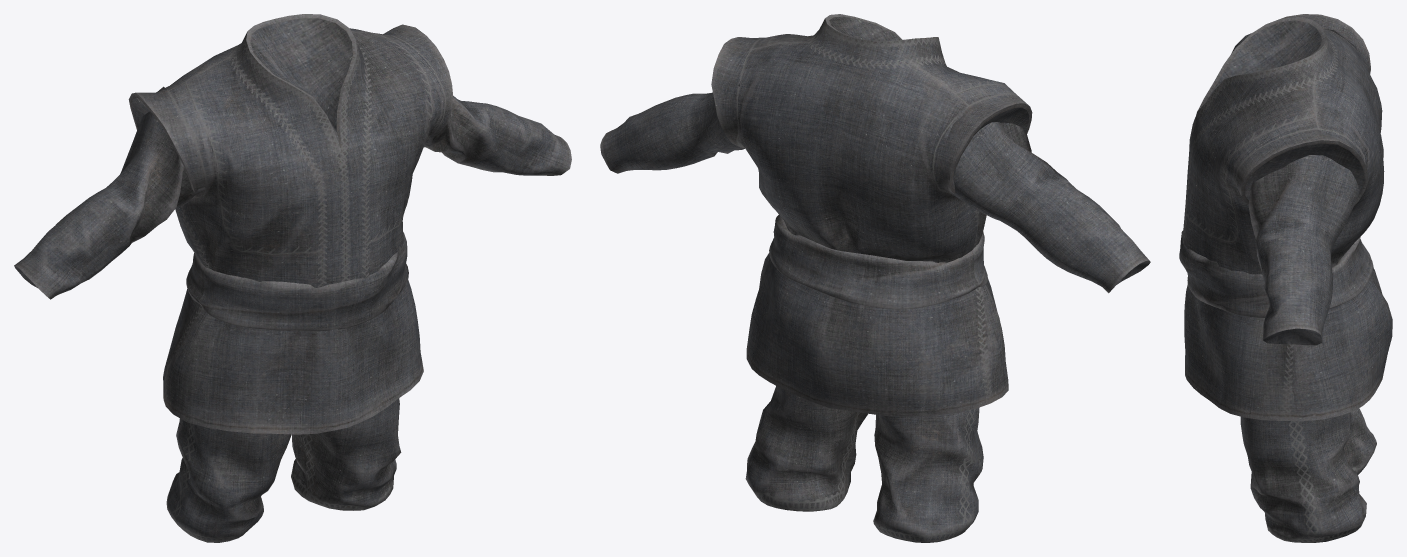
Rendered from sk_dwarf_tunic_noble_b.fbx.
3 views of the same model, side by side, from view 1: azimuth 30°, elevation 25°; view 2: azimuth 150°, elevation 25°; view 3: azimuth 270°, elevation 25° (orthographic). The views are drawn at different scales.
Parts seen in each view (by area): view 1: sk_dwarf_tunic_noble_b.0, sk_dwarf_tunic_noble_b.1; view 2: sk_dwarf_tunic_noble_b.0, sk_dwarf_tunic_noble_b.1; view 3: sk_dwarf_tunic_noble_b.0, sk_dwarf_tunic_noble_b.1.
Boxes of the visible parts, x1=… form: sk_dwarf_tunic_noble_b.0: x1=14, y1=14, x2=571, y2=434; sk_dwarf_tunic_noble_b.1: x1=166, y1=398, x2=401, y2=542; sk_dwarf_tunic_noble_b.0: x1=600, y1=14, x2=1150, y2=416; sk_dwarf_tunic_noble_b.1: x1=745, y1=386, x2=983, y2=542; sk_dwarf_tunic_noble_b.0: x1=1179, y1=14, x2=1392, y2=421; sk_dwarf_tunic_noble_b.1: x1=1240, y1=408, x2=1376, y2=542.
Bounding box in the file's own units: 1.2 × 0.4309 × 1.04.
2 materials, 2 textured.
